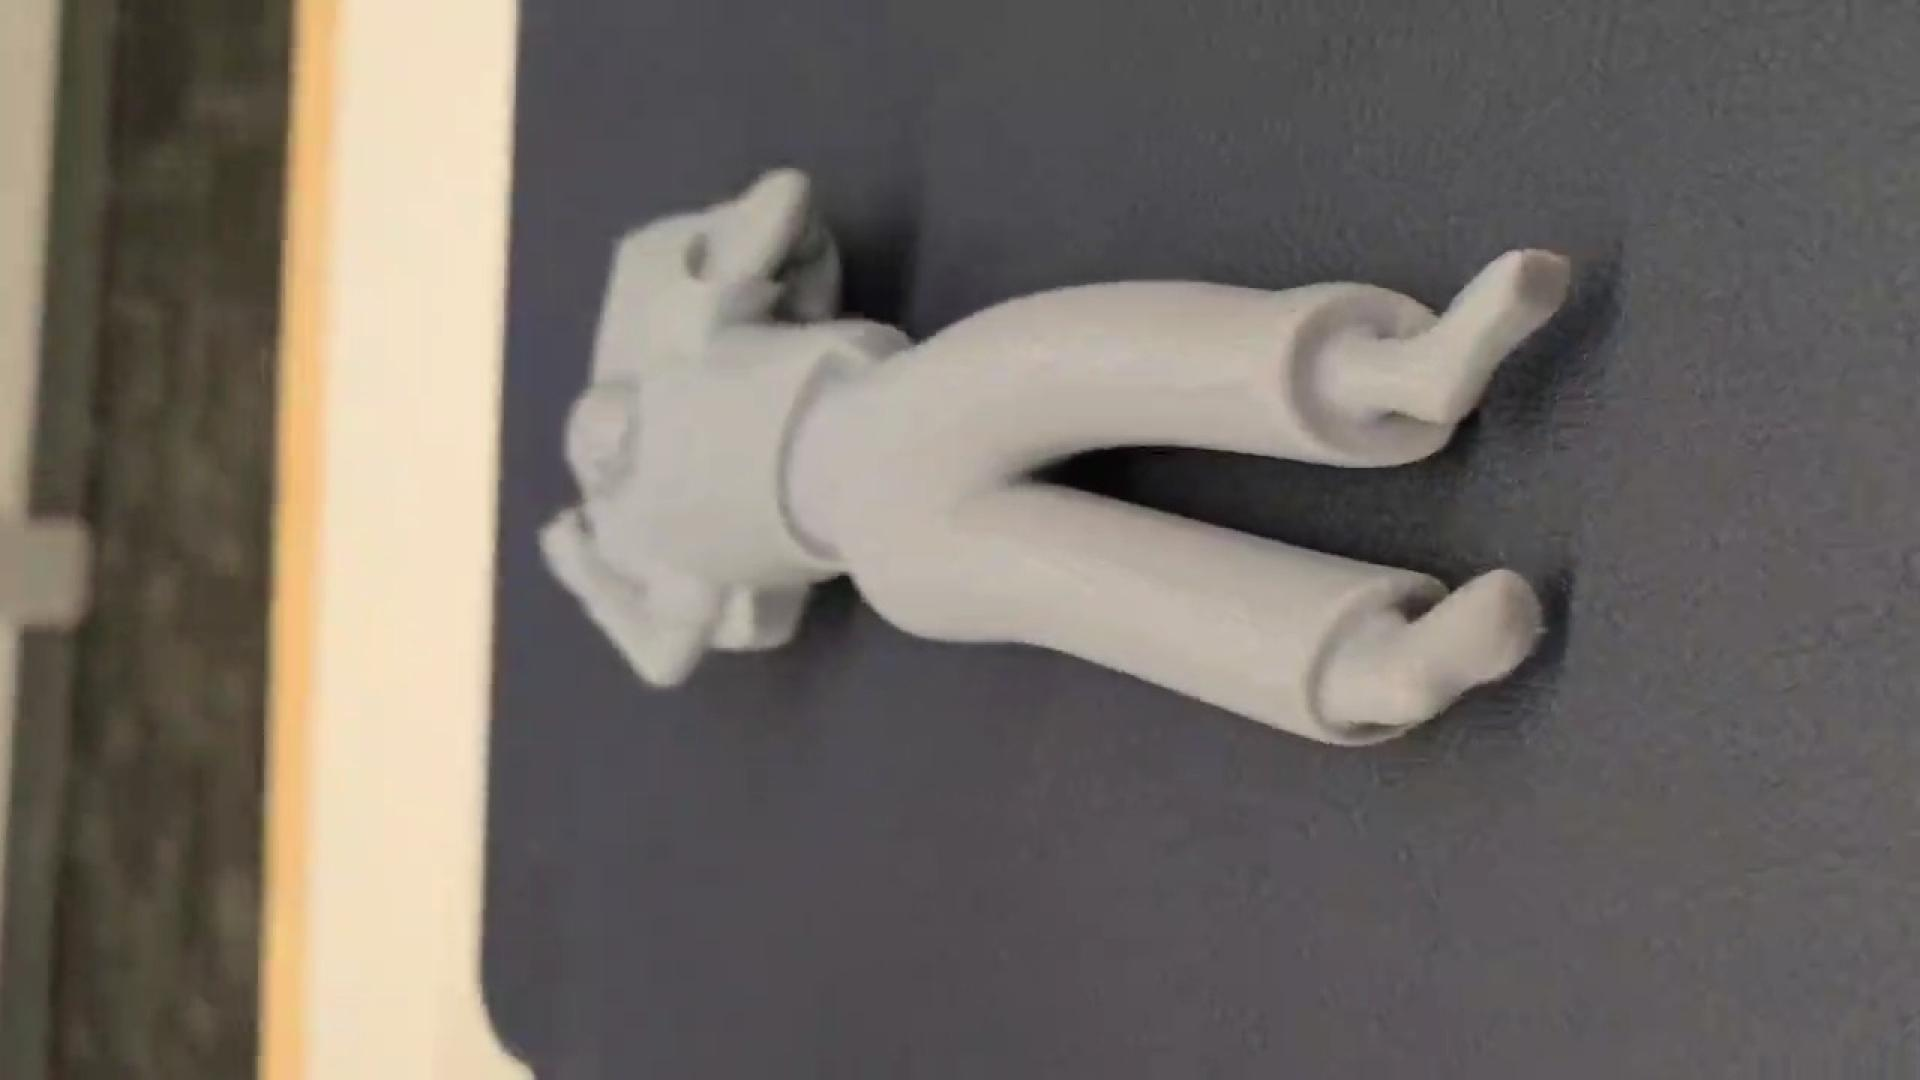Bad-style: (538, 173, 1586, 753)
